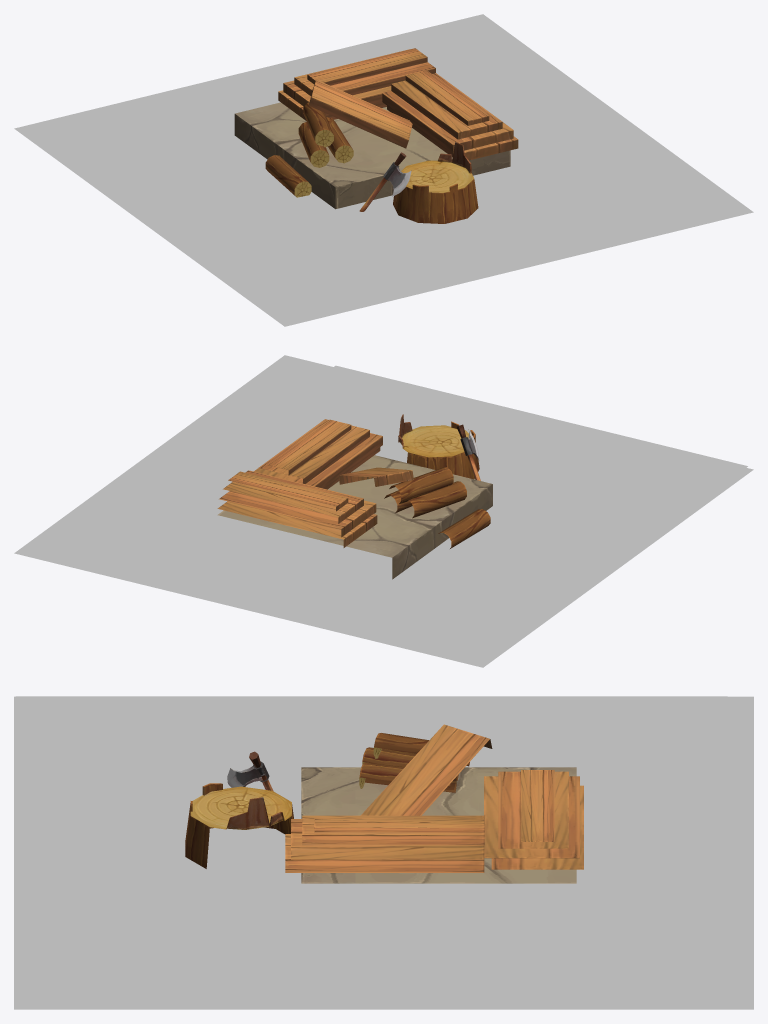
File: The main city_023_LV02.FBX
3 renders of one model, top to bottom at view 1: azimuth 30°, elevation 25°; view 2: azimuth 150°, elevation 25°; view 3: azimuth 270°, elevation 25°, orthographic. The views are drawn at different scales.
Visible parts, largest first — view 1: The main city_023_LV02; view 2: The main city_023_LV02; view 3: The main city_023_LV02.
Part boxes in pixels (x1=…): The main city_023_LV02: x1=14, y1=14, x2=753, y2=326; The main city_023_LV02: x1=14, y1=355, x2=753, y2=667; The main city_023_LV02: x1=14, y1=696, x2=753, y2=1009.
Size of the model in its own units: 59.9 by 8.7 by 59.9.
